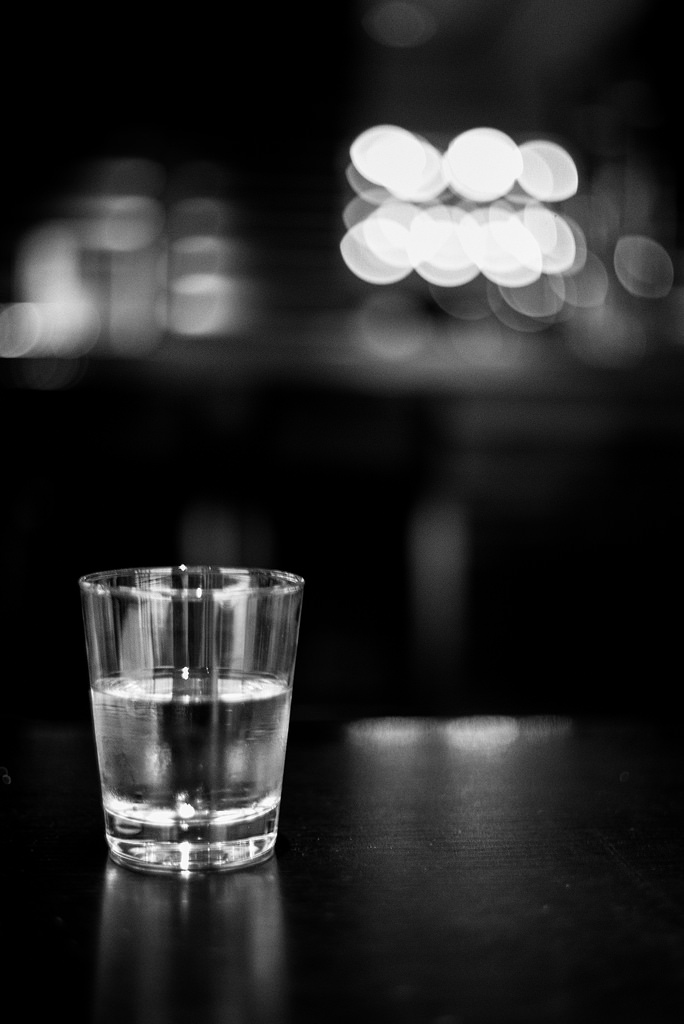glass of water: (90, 570, 293, 859)
